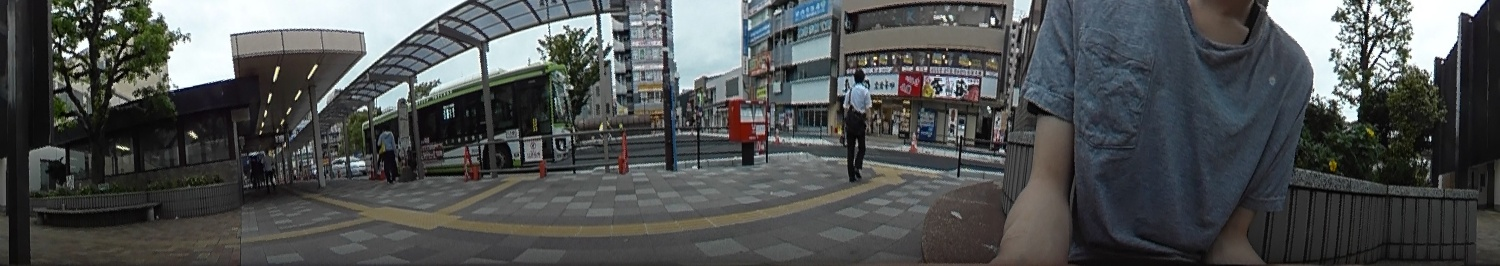difficult_person: (261, 148, 272, 189), (250, 157, 260, 188)
person: (844, 66, 870, 185), (376, 126, 400, 185)
